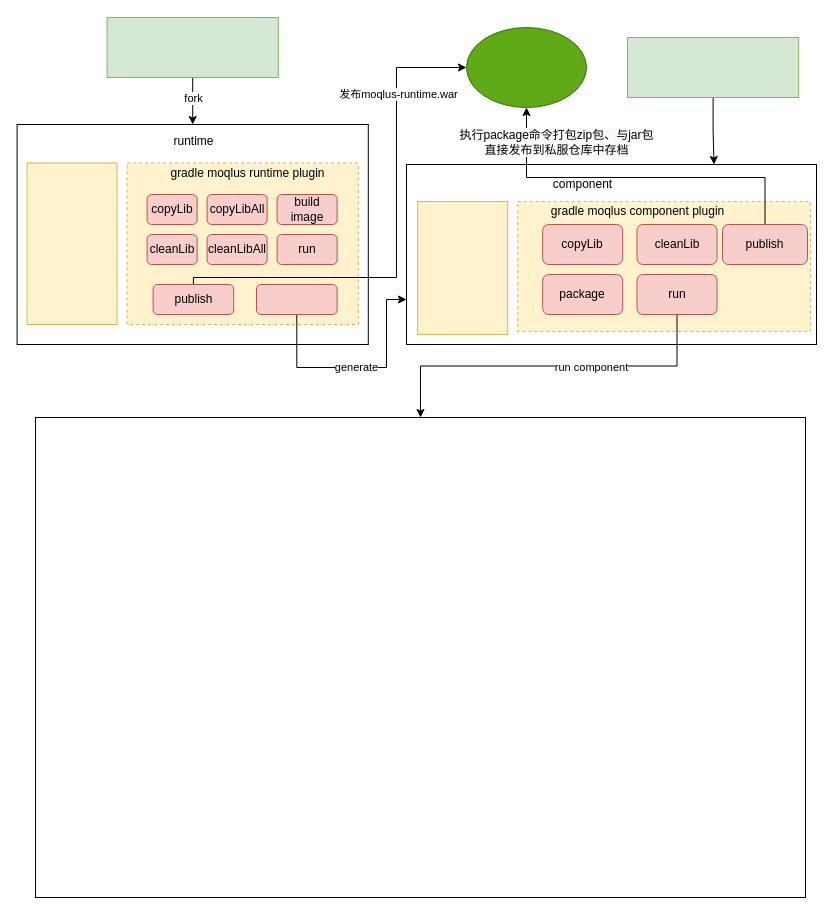
This 835x915 diagram has some shape labels left out. Here are the shapes that lost their labels. From the top down, the centre of each, then its label:
(x=192, y=47): moqlus runtime sample
(x=526, y=67): artifactory
(x=712, y=67): moqlus component sample
(x=71, y=243): base-component template ...
(x=462, y=267): entity service screen l10n script src ...
(x=296, y=299): generate component
